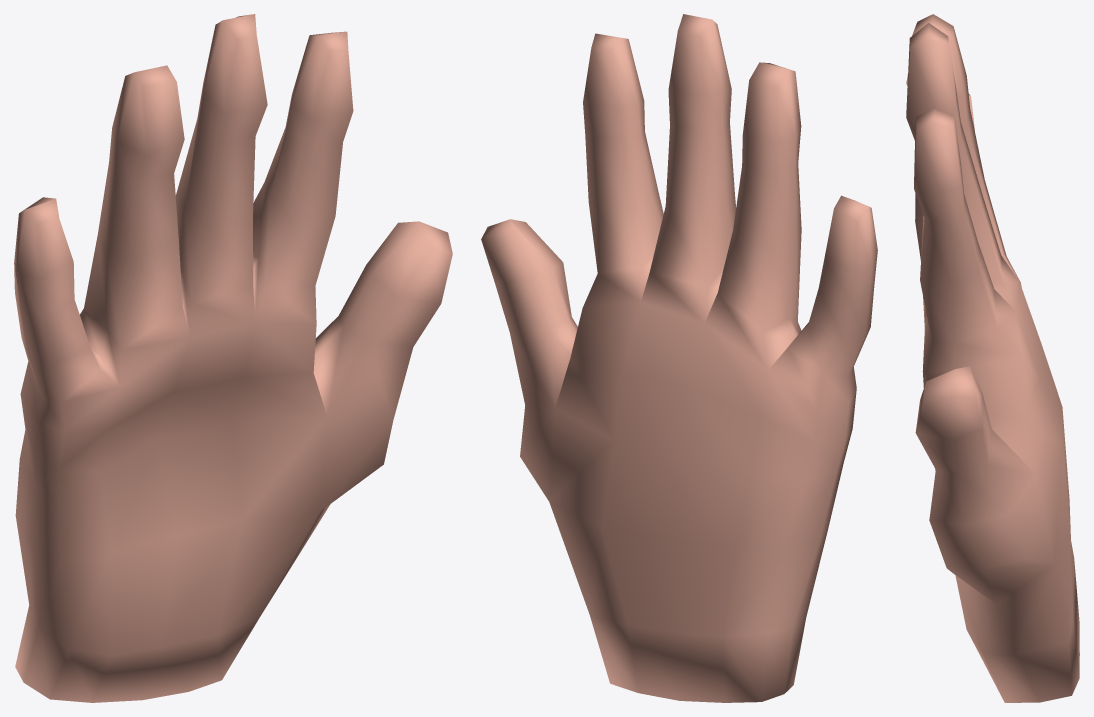
File: rightHand.fbx
3 views of the same model, side by side, from view 1: azimuth 30°, elevation 25°; view 2: azimuth 150°, elevation 25°; view 3: azimuth 270°, elevation 25° (orthographic). The views are drawn at different scales.
Visible parts, largest first — view 1: Right Hand; view 2: Right Hand; view 3: Right Hand.
Part boxes in pixels (left/top/right/bottom): Right Hand: left=14, top=14, right=452, bottom=702; Right Hand: left=481, top=14, right=877, bottom=702; Right Hand: left=906, top=14, right=1079, bottom=702.
Size of the model in its own units: 259 by 403 by 95.82.
